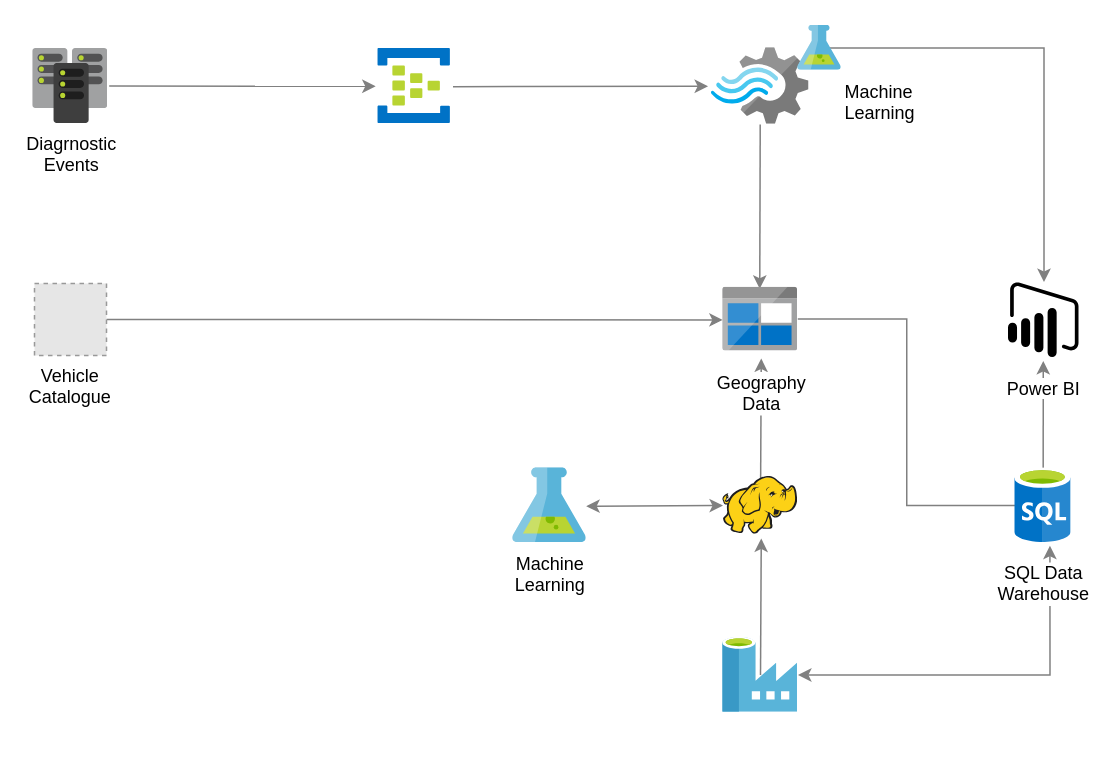
Image size: 1115x770. Some labels were removed from this diagram. Grey dashed boxes stand in for pictures. Here are the shapes that lost their labels. From the top down, the centre of each, then its label:
the point at 413,85: Event Hub
the point at 759,85: Stream Analytics
the point at 759,505: HDInsight
the point at 759,674: Data Factory
